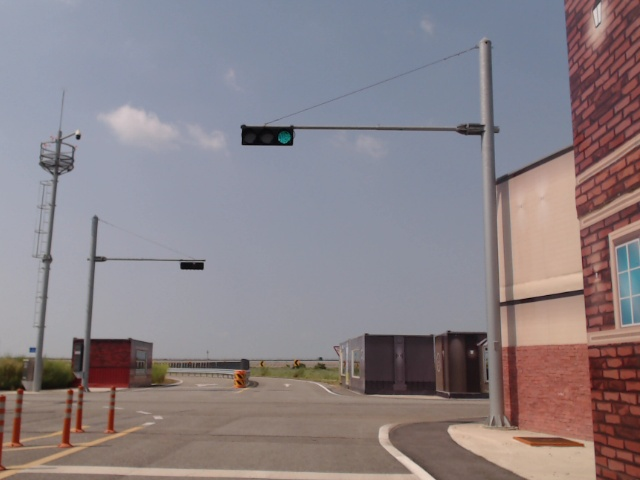green_3: (242, 127, 294, 146)
